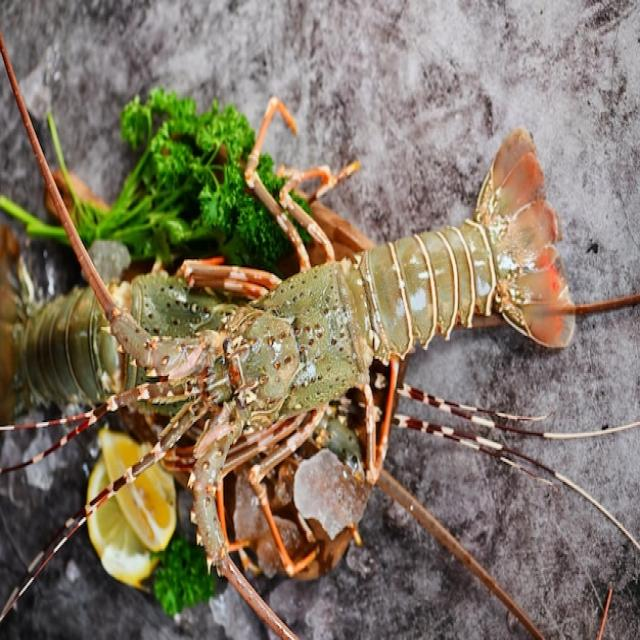Lobster: (0, 34, 574, 637)
